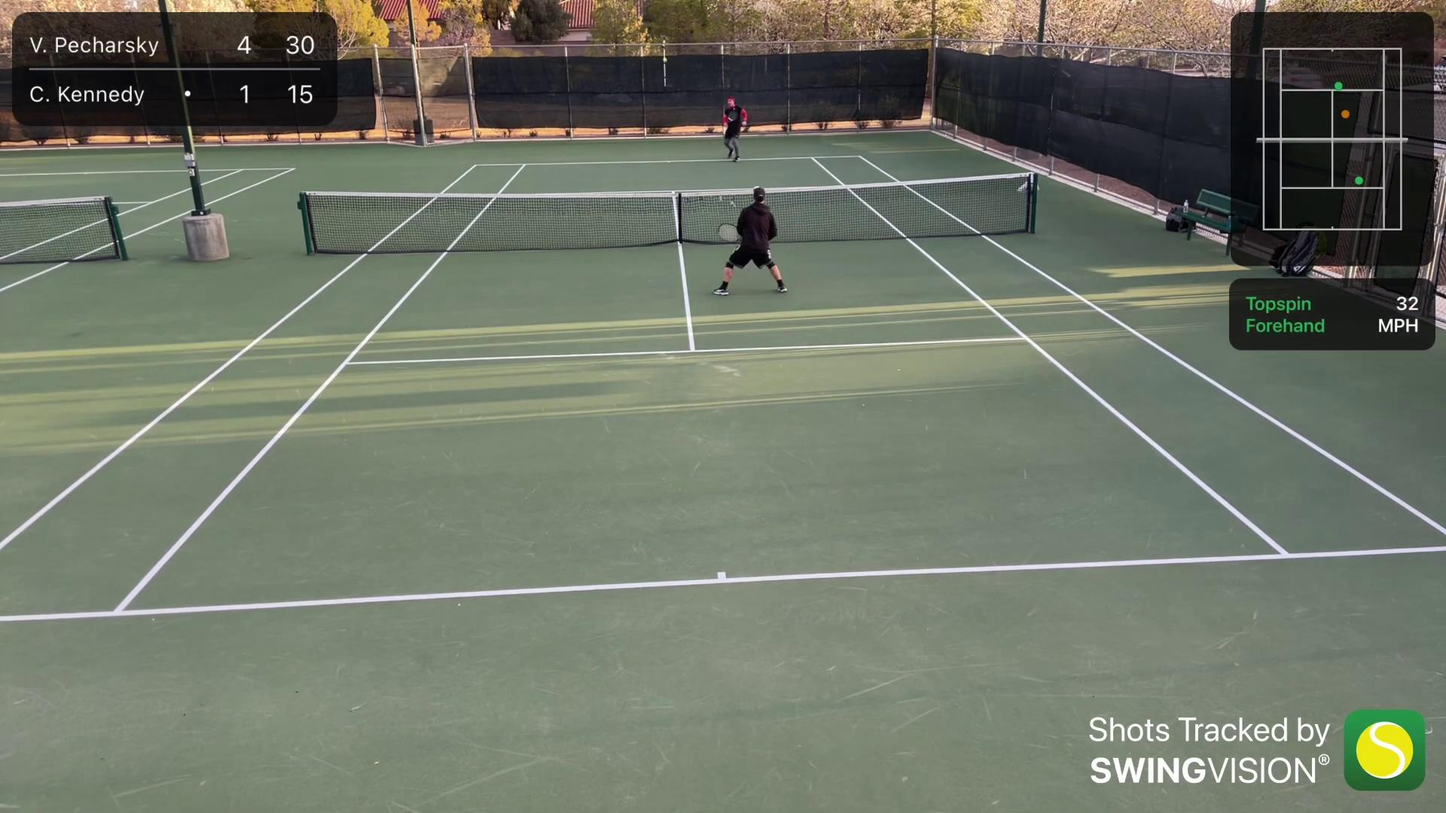ball: (661, 55, 668, 62)
